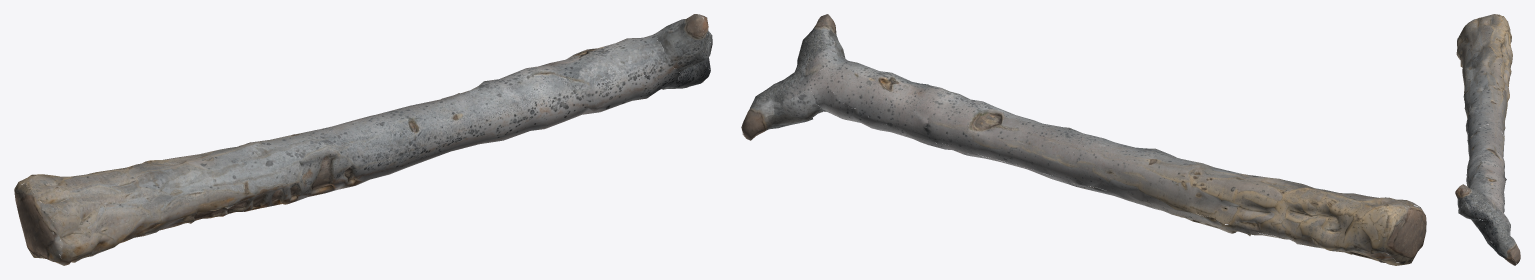
File: dead_quiver_trunk.glb
3 renders of one model, left to right at view 1: azimuth 30°, elevation 25°; view 2: azimuth 150°, elevation 25°; view 3: azimuth 270°, elevation 25°, orthographic. The views are drawn at different scales.
Parts seen in each view (by area): view 1: dead_quiver_trunk; view 2: dead_quiver_trunk; view 3: dead_quiver_trunk.
Part boxes in pixels (x1,y1,x2,y2): dead_quiver_trunk: (14,14,712,265); dead_quiver_trunk: (741,14,1426,265); dead_quiver_trunk: (1455,14,1520,265).
Size of the model in its own units: 1.99 by 0.3069 by 0.2672.
Materials: 1 (1 with a texture image).
